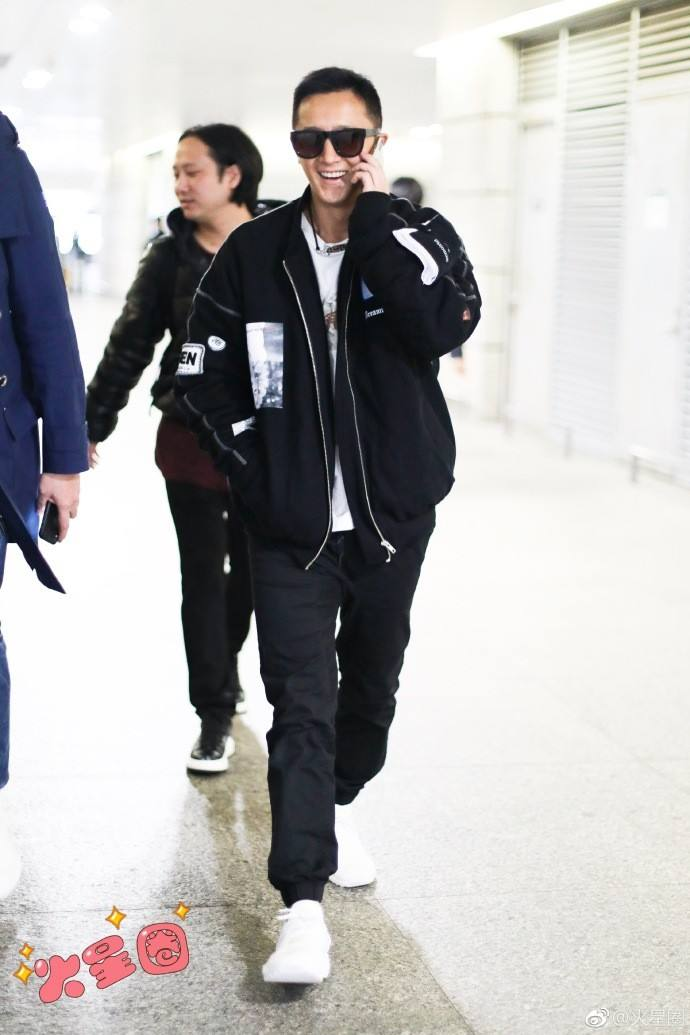phone: (353, 133, 399, 220)
talk: (295, 113, 422, 241)
